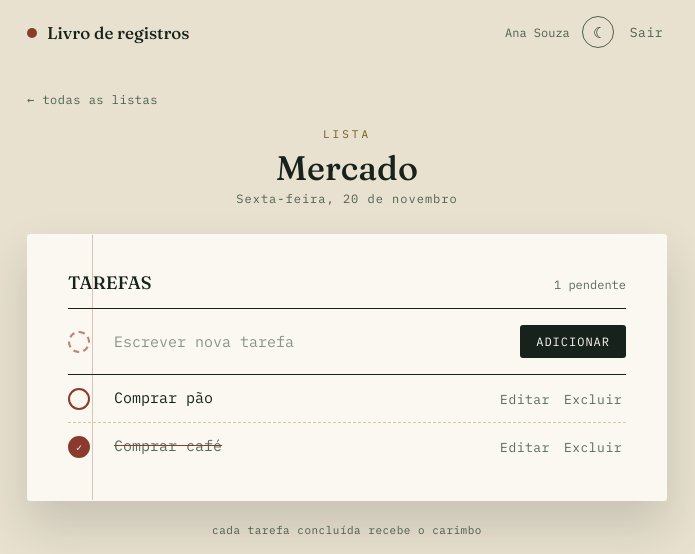
Test: TasksPage › edita o texto de uma tarefa
The width and height of the screenshot is (695, 554).
Click the button named "Editar \"Comprar pão\"": (525, 400) [496,389,554,410]
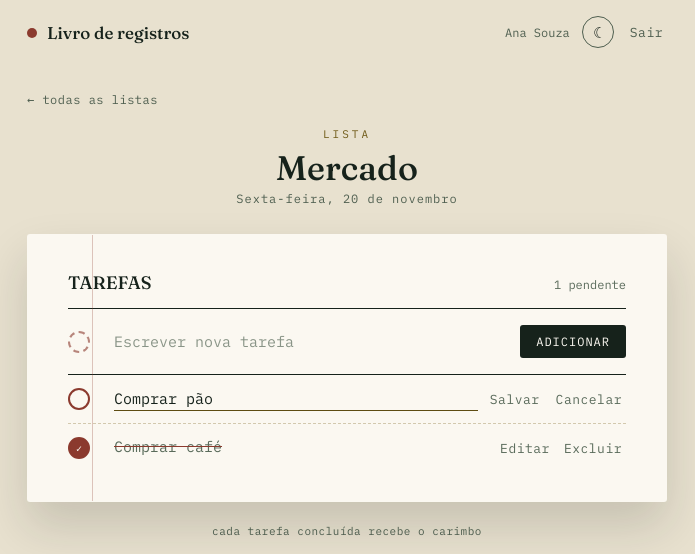
Replace the text in the field named "Editar tarefa" with "Comprar pão integral": (296, 399) [114,387,478,411]
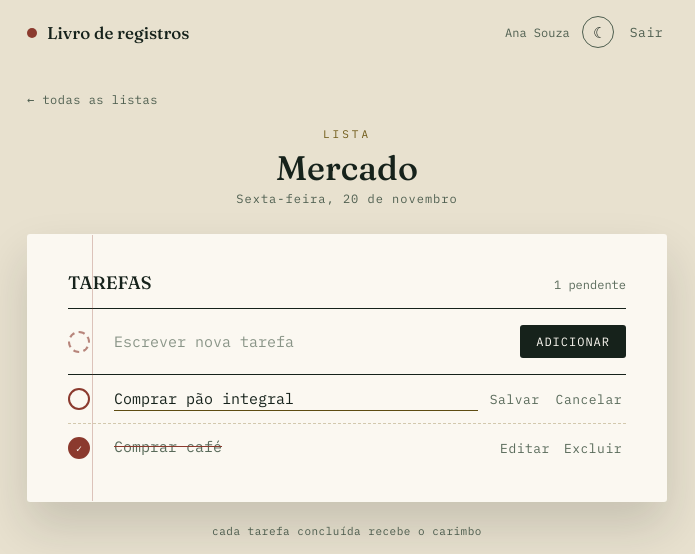
Click the button "Salvar": (515, 399) [486,388,544,410]
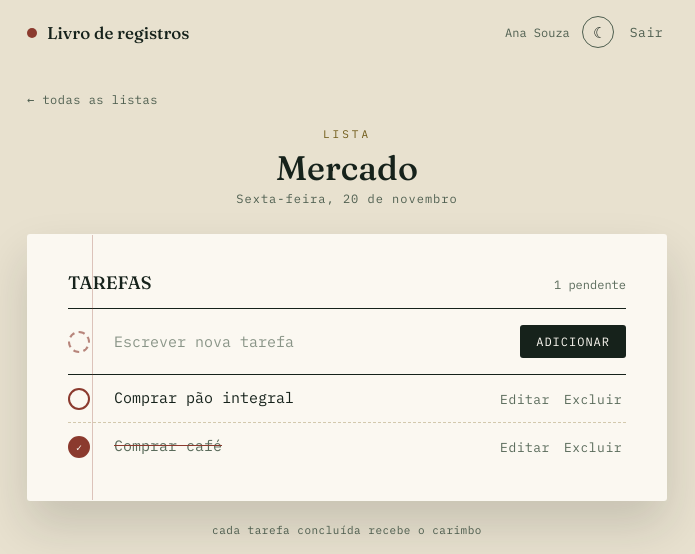
Expected: the text "Comprar pão integral" is shown, [114,388,294,407]
